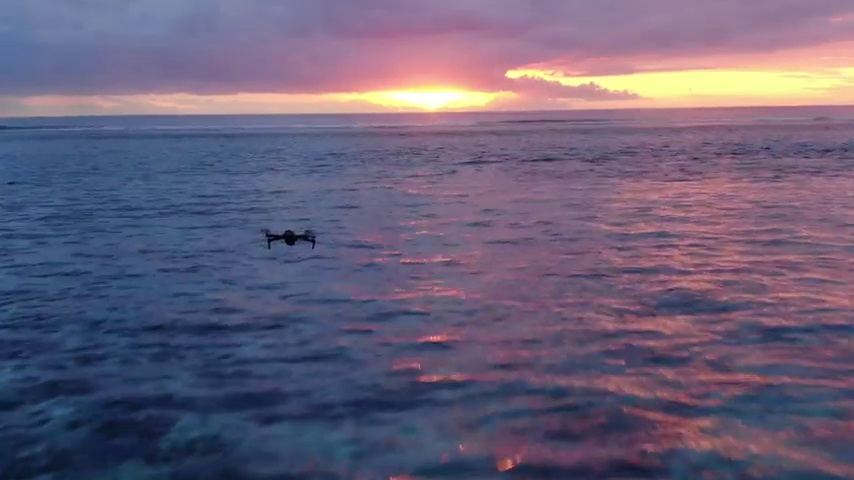drone: (262, 226, 316, 251)
